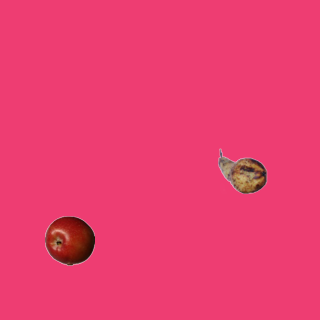Apple Braeburn: (44, 215, 94, 265)
Pear Abate: (217, 146, 267, 196)
